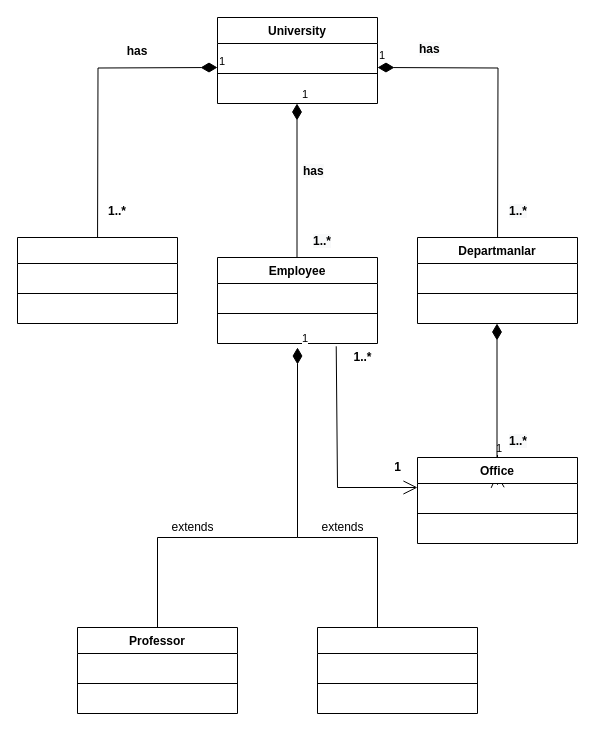
Image size: 595x734. Some labels were removed from this diagram. The centre of each missing label's shape, as x and y in pixels:
"Class" belongs at (x=97, y=280).
"Officer" belongs at (x=397, y=670).
